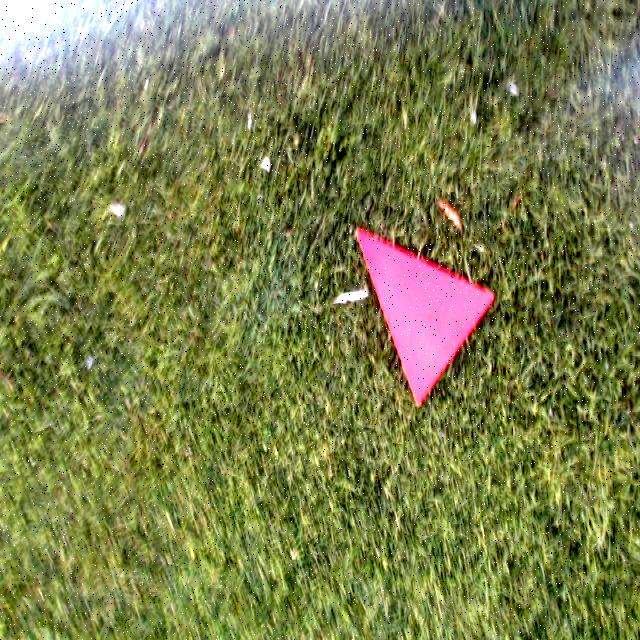red_triangle: (355, 228, 491, 406)
